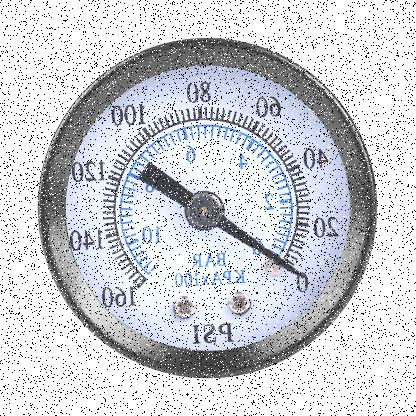needle: (216, 214, 305, 280)
